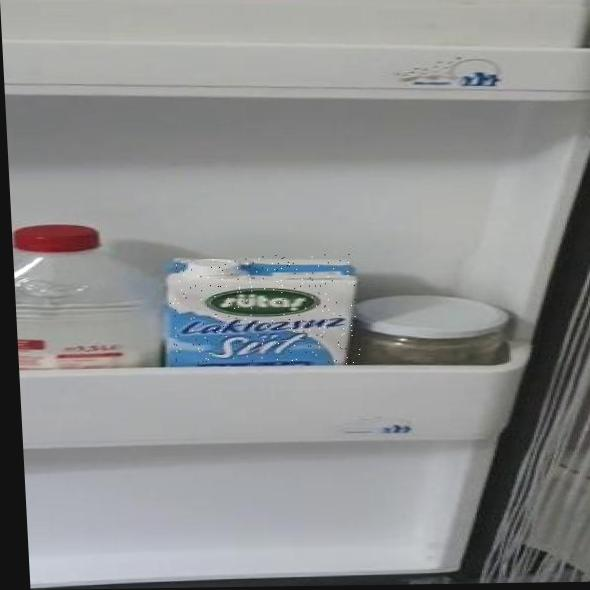milk: (166, 254, 361, 367)
